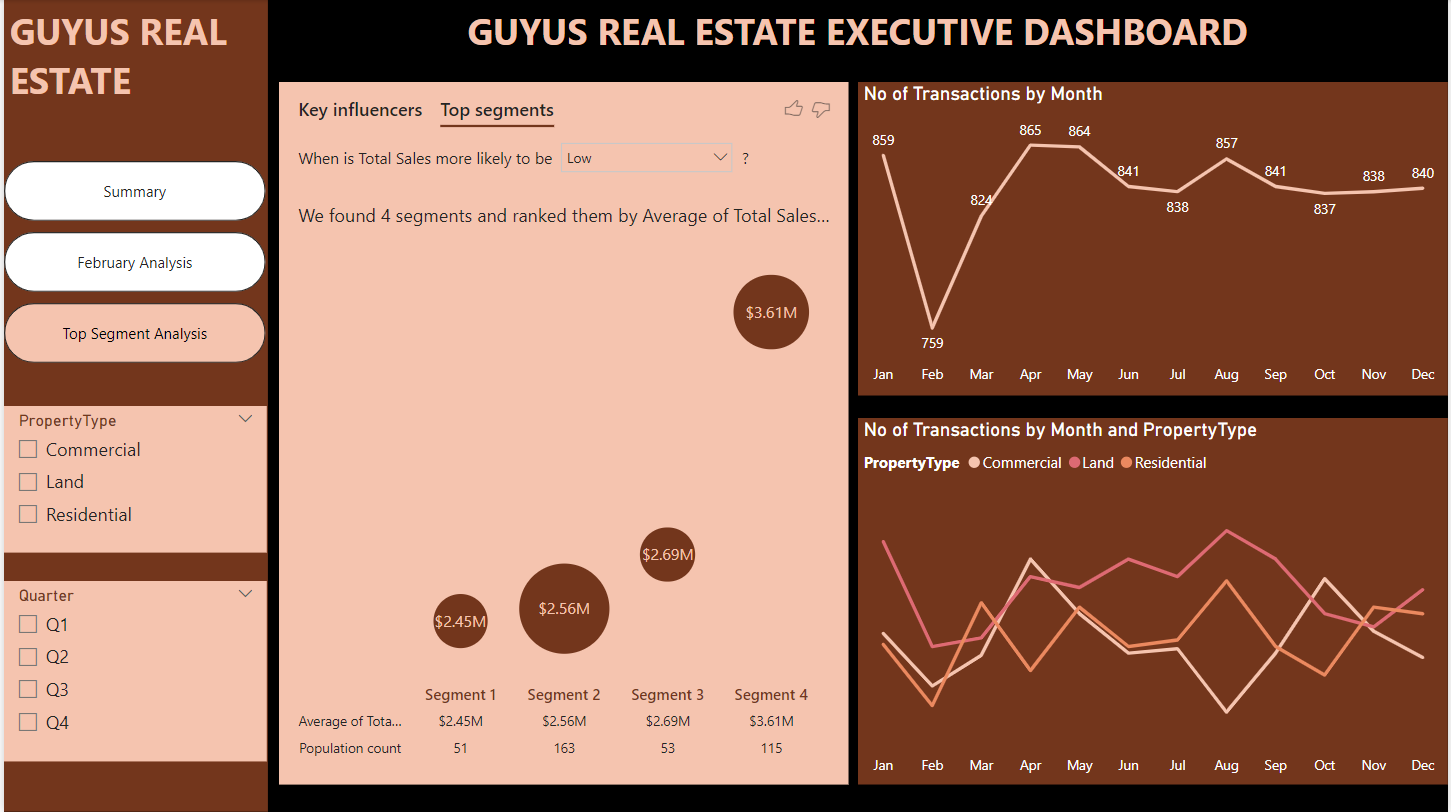

The dashboard page shown, as its layout file describes it:
{"tool":"powerbi","page":{"name":"Top Segment Analysis","canvas":[1280,720],"ordinal":2},"visuals":[{"type":"shape","box":[0,0,234.4,719.8],"z":0},{"type":"textbox","box":[0,0,234.4,109.9],"z":1000},{"type":"textbox","box":[234.4,0,1045.6,55.4],"z":2000},{"type":"lineChart","fields":{"Category":["Calendar Dim.Month Name"],"Y":["Calculations.No of Transactions"]},"box":[757.2,72.7,523.2,277.5],"z":3000},{"type":"slicer","fields":{"Values":["Calendar Dim.Quarter"]},"box":[0,515.4,232.7,159.8],"z":4000},{"type":"slicer","fields":{"Values":["Property Dim.PropertyType"]},"box":[0,360,232.7,130],"z":5000},{"type":"pageNavigator","box":[0,142.8,232.3,180],"z":6000},{"type":"lineChart","fields":{"Category":["Calendar Dim.Month Name"],"Y":["Calculations.No of Transactions"],"Series":["Property Dim.PropertyType"]},"box":[757.2,370.6,523.2,325.4],"z":7000},{"type":"keyDriversVisual","fields":{"Target":["Calculations.Total Sales"],"ExplainBy":["Agent Dim.AgentName","Location Dim.State","Property Dim.PropertyType"]},"box":[243.8,72.7,505.4,623.3],"z":8000}]}

Visuals, with their boxes in screenshot pixels (x1, y1, x2, y2), scaled from the page's 1280x720 canvas onto the 1451x812 screenshot:
shape: x1=0 y1=0 x2=266 y2=811
textbox: x1=0 y1=0 x2=266 y2=124
textbox: x1=266 y1=0 x2=1450 y2=62
lineChart - Calendar Dim.Month Name x Calculations.No of Transactions: x1=858 y1=82 x2=1450 y2=395
slicer - Calendar Dim.Quarter: x1=0 y1=581 x2=264 y2=761
slicer - Property Dim.PropertyType: x1=0 y1=406 x2=264 y2=553
pageNavigator: x1=0 y1=161 x2=263 y2=364
lineChart - Calendar Dim.Month Name x Calculations.No of Transactions: x1=858 y1=418 x2=1450 y2=785
keyDriversVisual - Calculations.Total Sales x Agent Dim.AgentName: x1=276 y1=82 x2=849 y2=785
